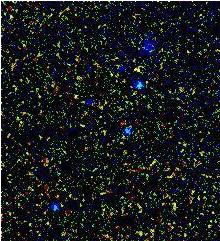star: (123, 54, 153, 84)
